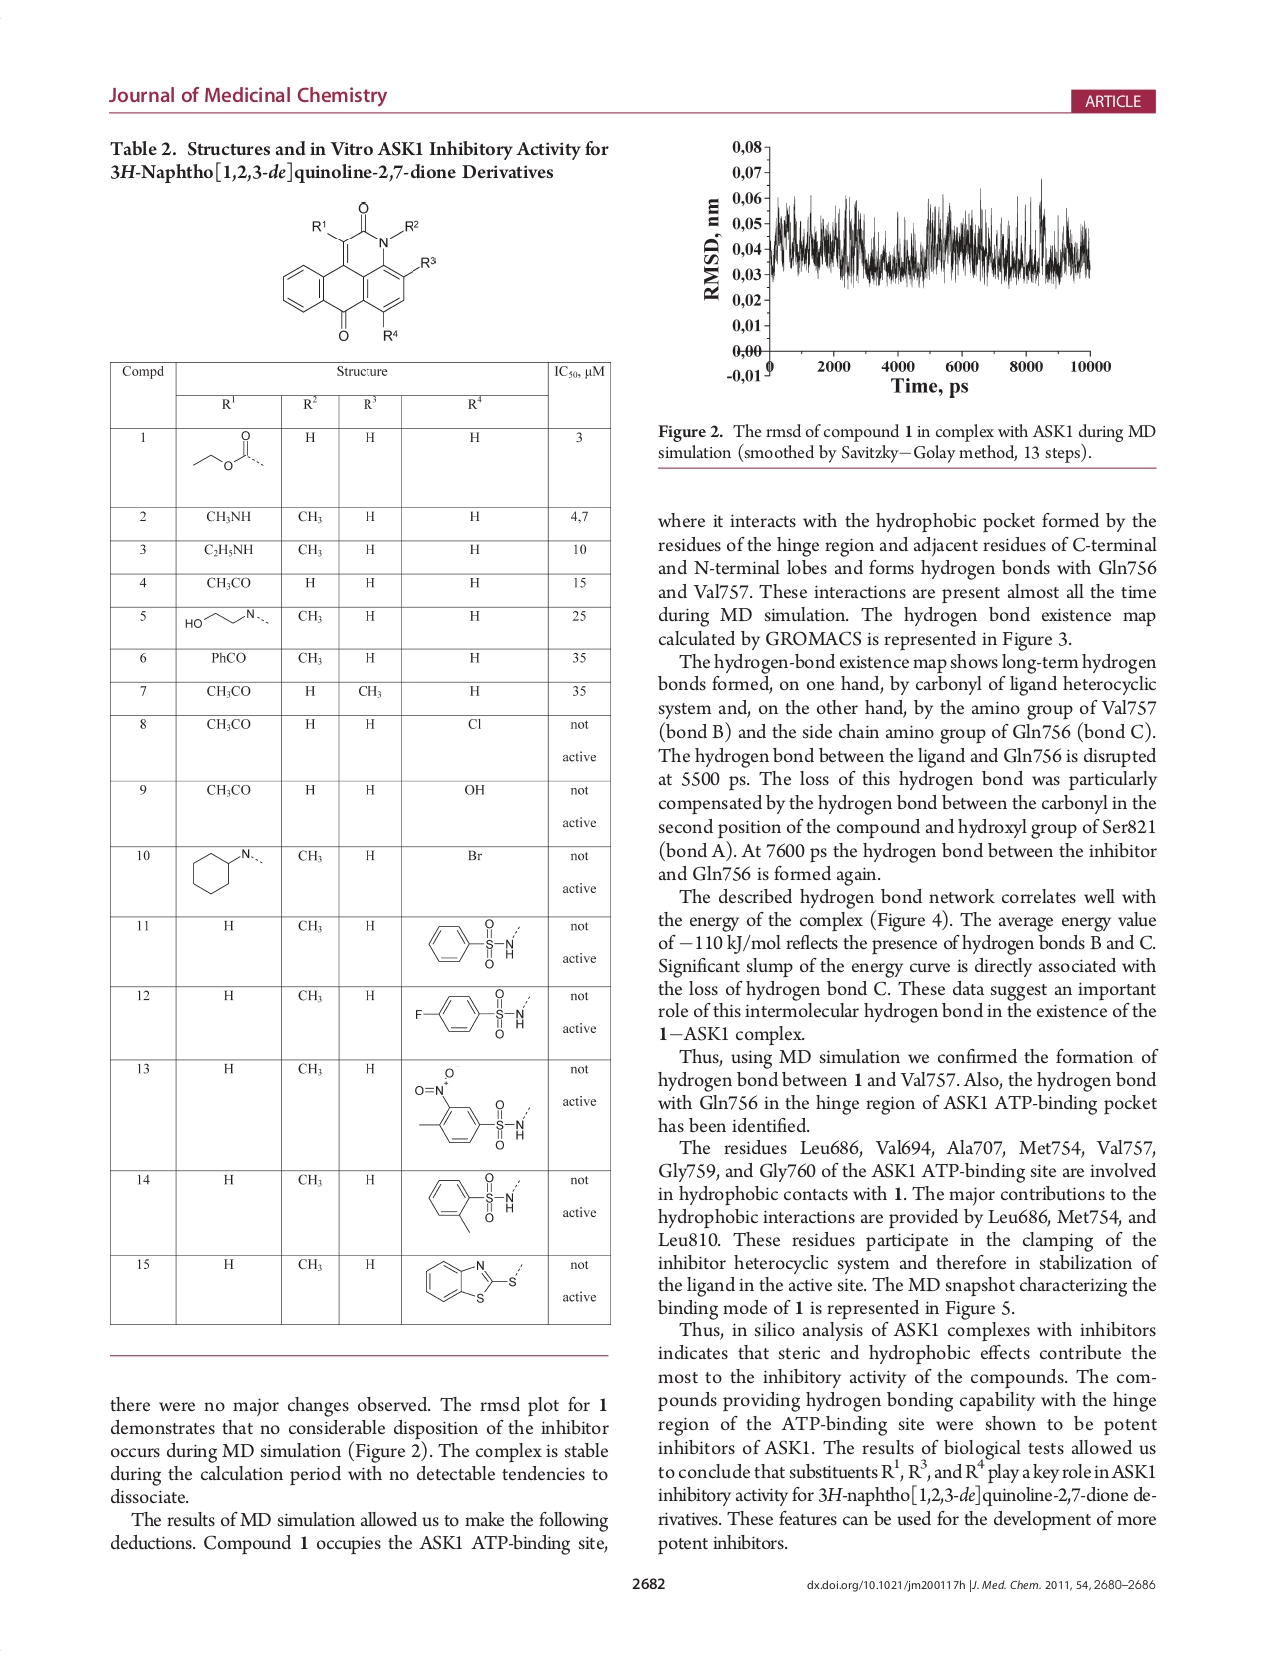exist_molecular: (281, 198, 438, 344), (410, 1067, 533, 1156), (410, 988, 533, 1041), (427, 1172, 525, 1238), (422, 1257, 524, 1307), (426, 919, 523, 971), (190, 848, 265, 898), (191, 428, 265, 473), (184, 610, 270, 630)
